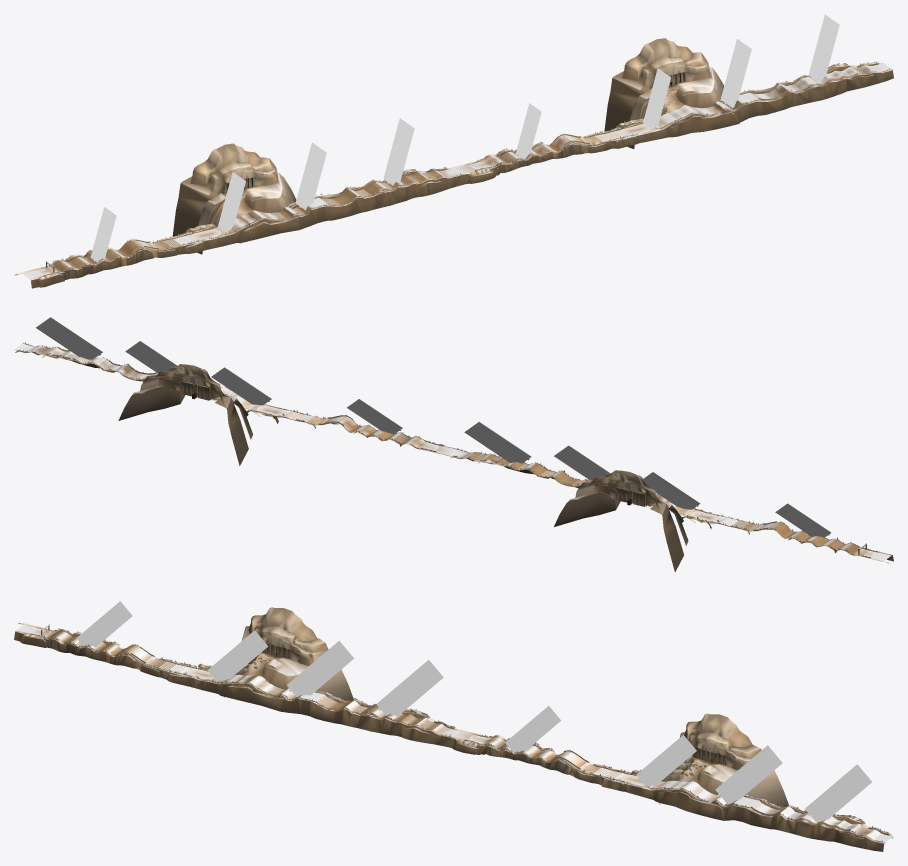
File: Desert_10.fbx
3 renders of one model, top to bottom at view 1: azimuth 30°, elevation 25°; view 2: azimuth 150°, elevation 25°; view 3: azimuth 330°, elevation 25°, orthographic.
Parts seen in each view (by area): view 1: Mountain_01, Light_01, Road_01, Tree_01, Ground_01, Ground_02; view 2: Mountain_01, Light_01, Road_01, Tree_01, Pattern_01, Ground_01; view 3: Mountain_01, Light_01, Road_01, Tree_01, Ground_01, Ground_02, Pattern_01.
Part boxes in pixels (x1=…): Mountain_01: x1=30, y1=38, x2=893, y2=288; Light_01: x1=90, y1=14, x2=839, y2=262; Road_01: x1=22, y1=63, x2=890, y2=279; Tree_01: x1=52, y1=61, x2=892, y2=274; Ground_01: x1=30, y1=63, x2=891, y2=279; Ground_02: x1=14, y1=65, x2=857, y2=279; Mountain_01: x1=15, y1=343, x2=893, y2=572; Light_01: x1=36, y1=317, x2=831, y2=537; Road_01: x1=15, y1=343, x2=890, y2=561; Tree_01: x1=19, y1=342, x2=868, y2=552; Pattern_01: x1=180, y1=381, x2=646, y2=506; Ground_01: x1=14, y1=343, x2=891, y2=561; Mountain_01: x1=14, y1=607, x2=893, y2=851; Light_01: x1=76, y1=601, x2=871, y2=821; Road_01: x1=16, y1=625, x2=892, y2=842; Tree_01: x1=39, y1=628, x2=888, y2=842; Ground_01: x1=16, y1=627, x2=893, y2=842; Ground_02: x1=18, y1=623, x2=869, y2=828; Pattern_01: x1=229, y1=643, x2=726, y2=765.
Bounding box in the file's own units: 83926 × 8018 × 7291.
